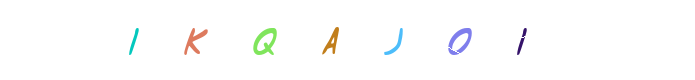A: (264, 0, 344, 80)
I: (216, 0, 296, 80), (482, 0, 562, 80)
J: (308, 0, 388, 80)
K: (225, 0, 305, 80)
O: (423, 0, 503, 80)
Q: (241, 0, 321, 80)
